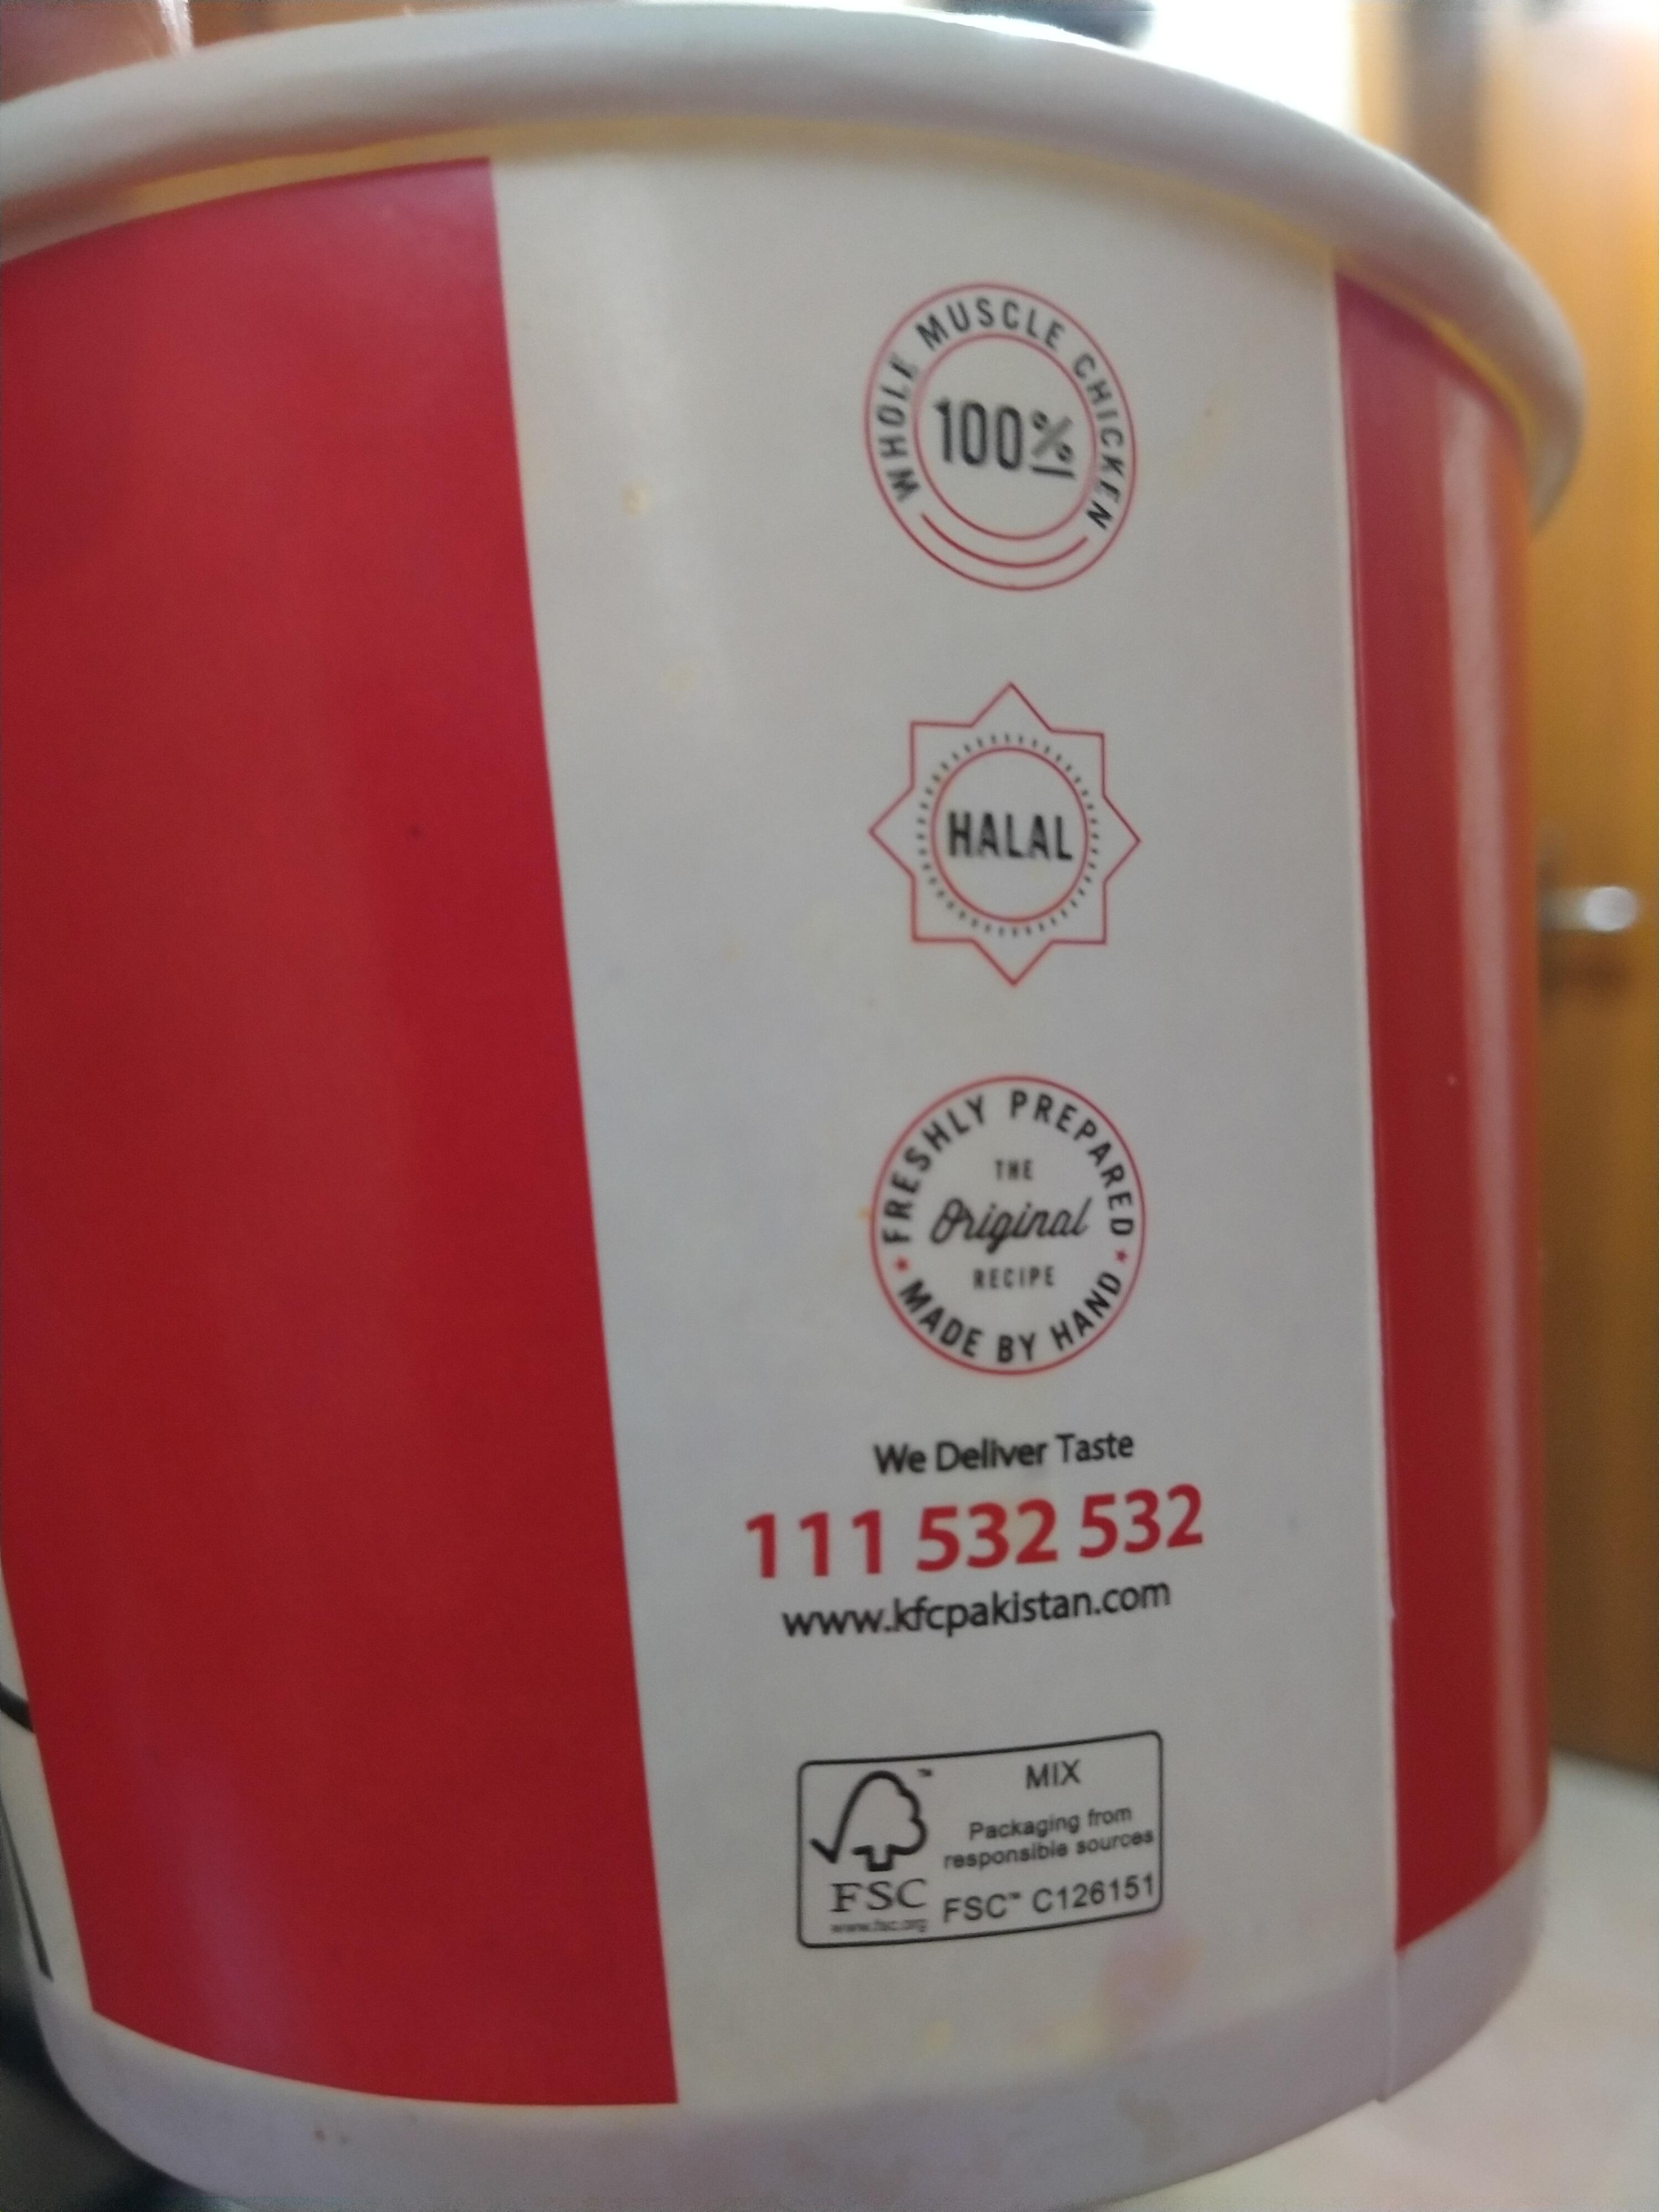paper: (0, 0, 1620, 2212)
